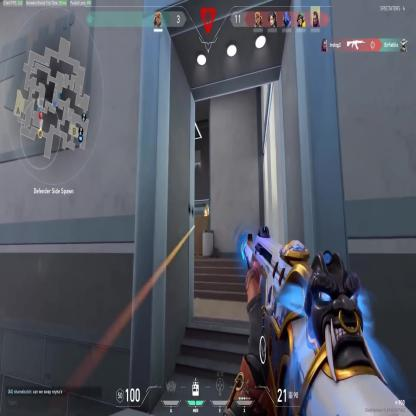enemy: (204, 203, 210, 231)
enemy_head: (206, 203, 208, 211)
